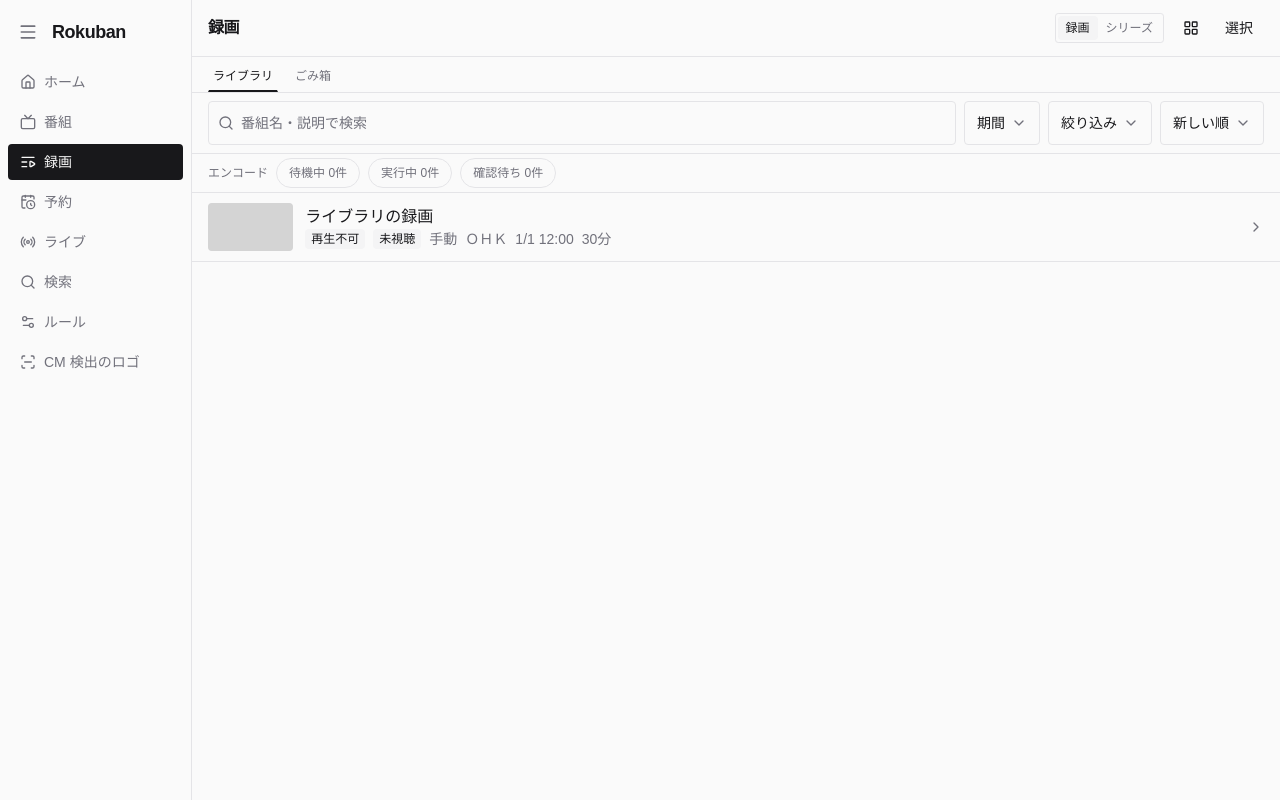
Test: RecordingsPage タブ › ごみ箱の GET が空配列を返すと「ごみ箱は空です」を出す
The width and height of the screenshot is (1280, 800).
Expected: the text "ライブラリの録画" is shown, top-left (305, 208), bottom-right (433, 225)
Click the button "ごみ箱" at [313, 76], box top-left (290, 61), bottom-right (336, 92)
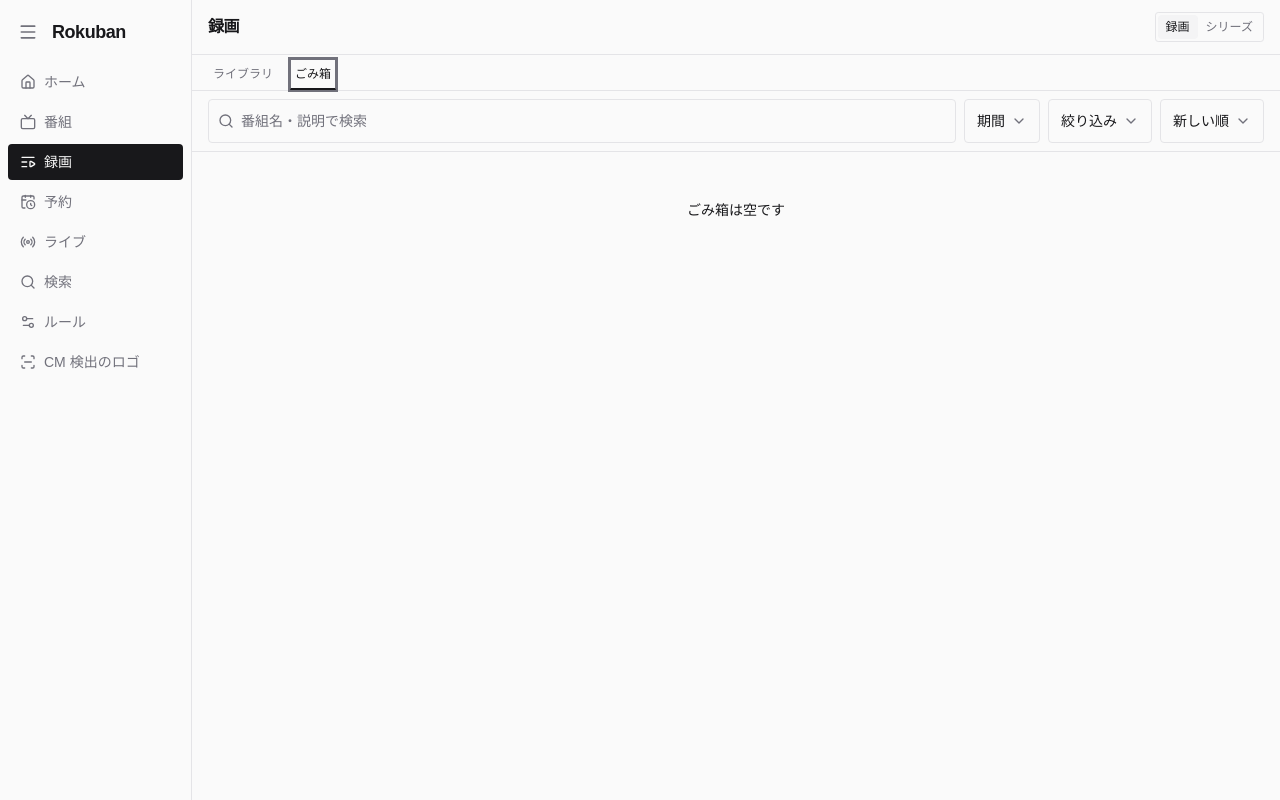
Result: the text "ごみ箱は空です" is shown at top-left (687, 202), bottom-right (785, 218)
Result: the text "ライブラリの録画" is gone
